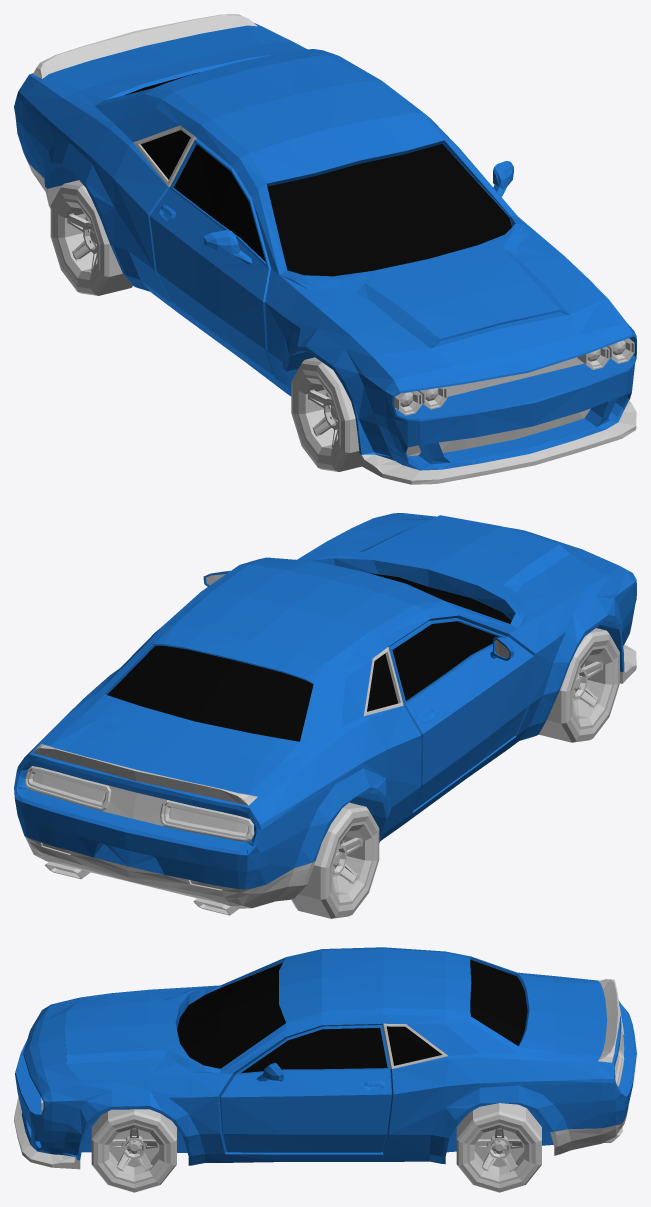
File: SM_racing_car.fbx
3 views of the same model, one above another, from view 1: azimuth 30°, elevation 25°; view 2: azimuth 150°, elevation 25°; view 3: azimuth 270°, elevation 25° (orthographic). The views are drawn at different scales.
Parts seen in each view (by area): view 1: Symmetry_6, Cylinder_2, Cylinder_3; view 2: Symmetry_6, Cylinder_3, Cylinder_2; view 3: Symmetry_6, Cylinder_3, Cylinder.
Boxes of the visible parts, x1,y1,x2,y2 form: Symmetry_6: (14, 14, 636, 484); Cylinder_2: (291, 357, 361, 471); Cylinder_3: (50, 180, 132, 295); Symmetry_6: (14, 513, 636, 915); Cylinder_3: (291, 802, 379, 918); Cylinder_2: (539, 628, 619, 742); Symmetry_6: (14, 947, 636, 1169); Cylinder_3: (456, 1103, 541, 1192); Cylinder: (91, 1109, 176, 1192).
Bounding box in the file's own units: 200 × 137 × 462.
